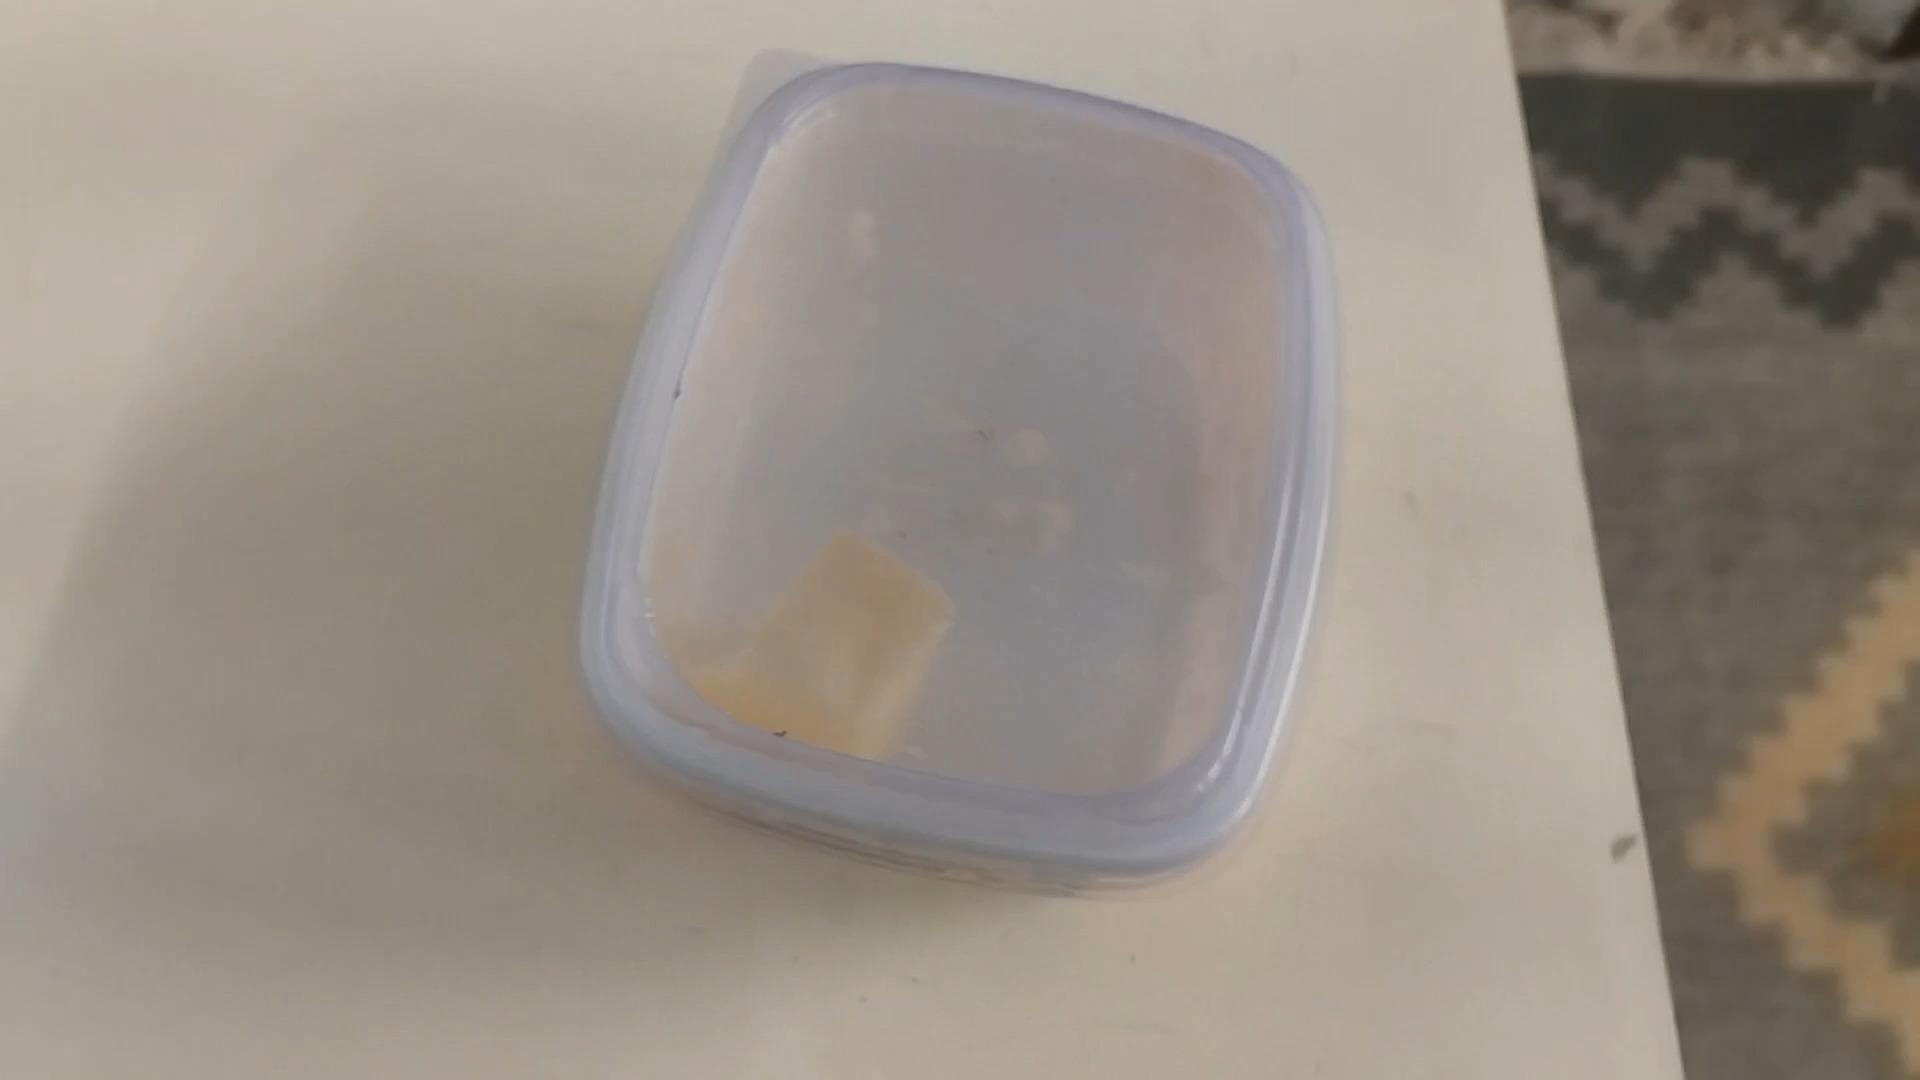butter: (571, 55, 1324, 897)
